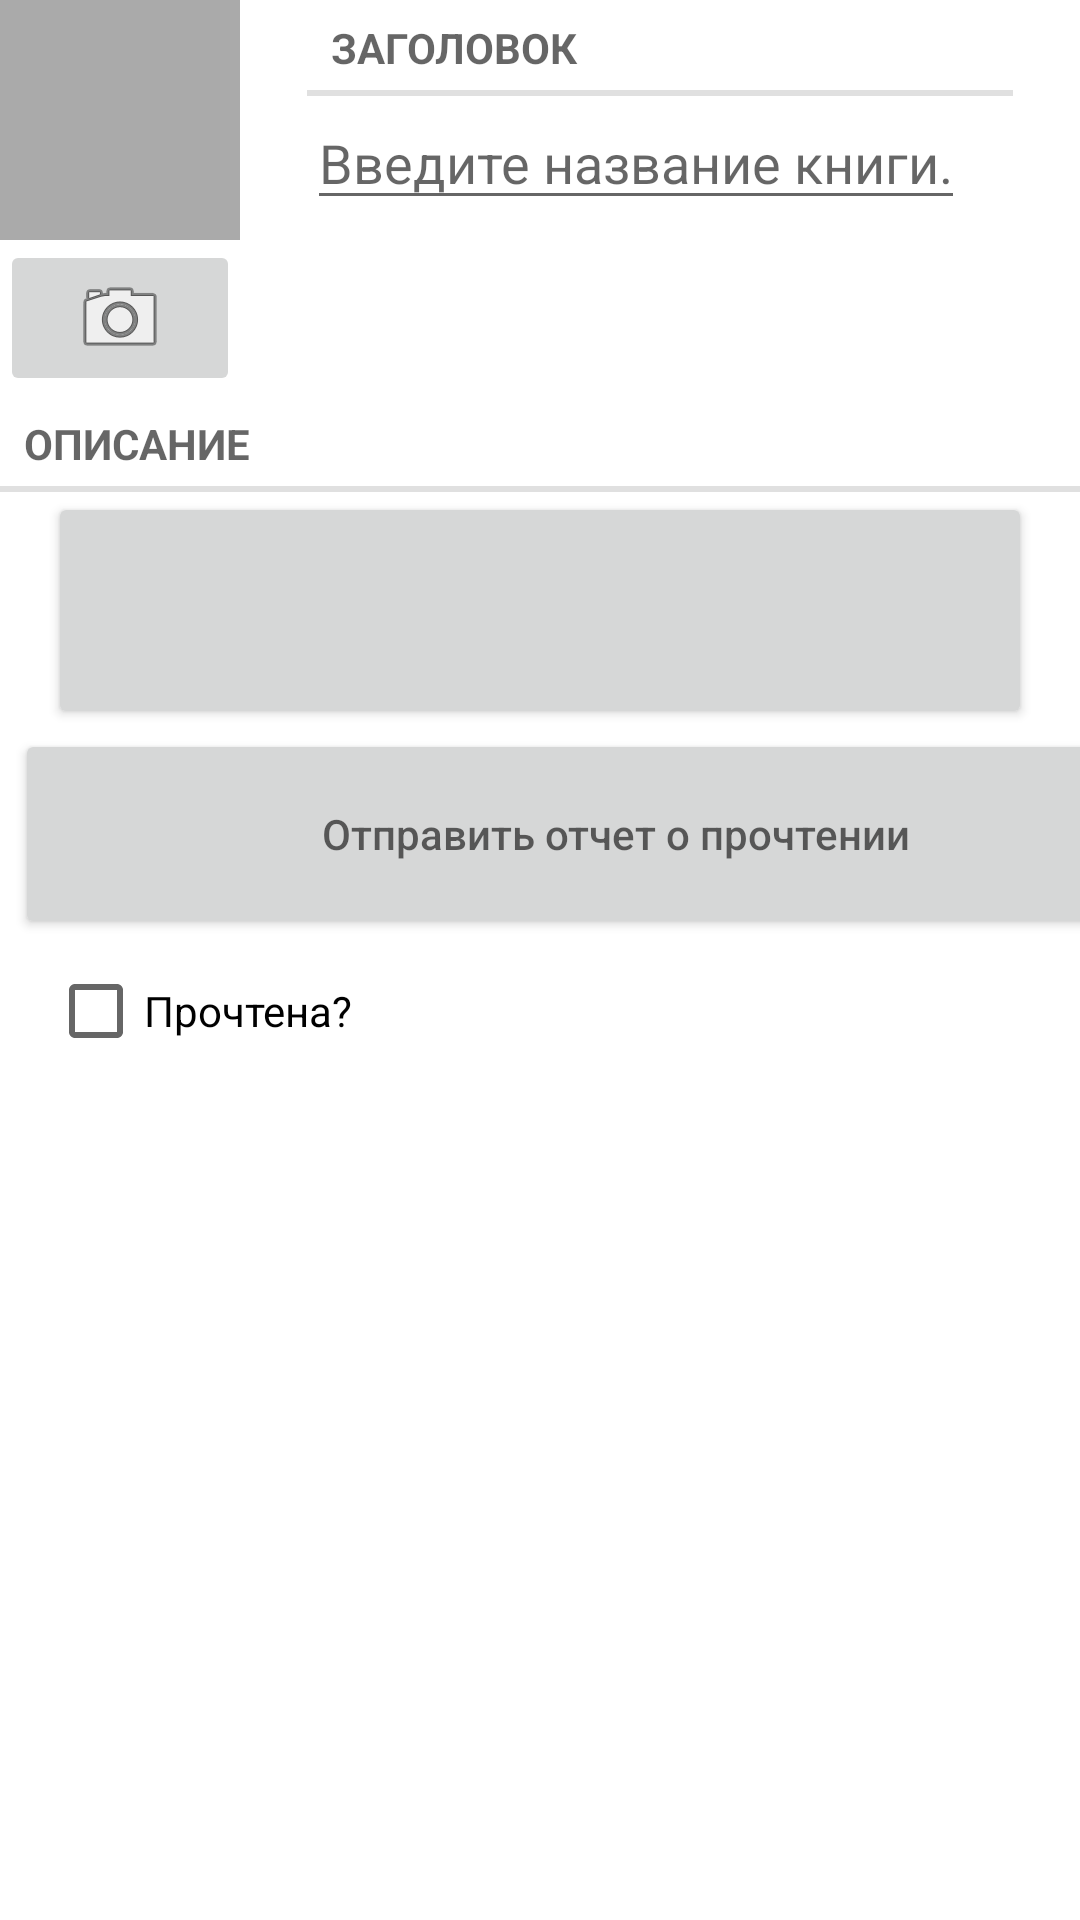

Where to tap for icons on this 1080x1920 app screen, as [x,y]:
camera: [120,318]
